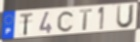1: (97, 6, 106, 31)
4: (38, 11, 53, 35)
C: (56, 10, 76, 33)
T: (19, 12, 34, 37), (79, 8, 94, 32)
U: (115, 4, 136, 30)
